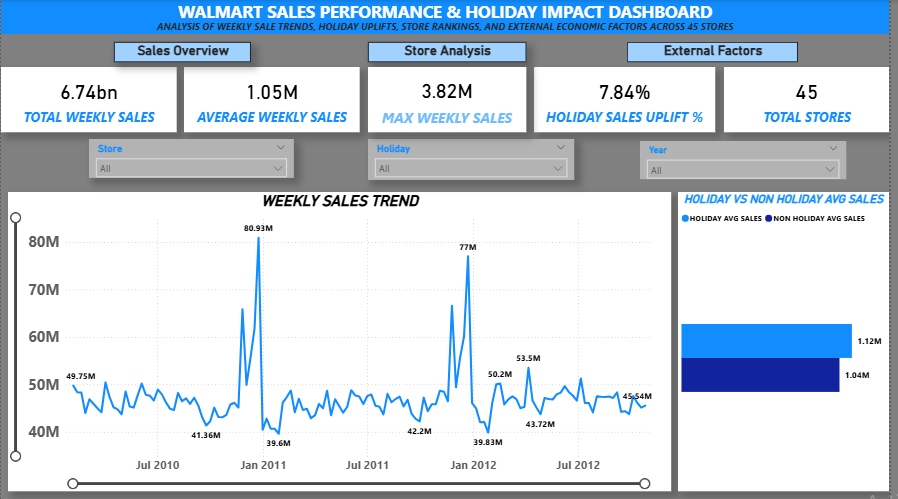

What the dashboard file says about the page in this screenshot:
{"tool":"powerbi","page":{"name":"Sales Overview","canvas":[1280,720],"ordinal":0},"visuals":[{"type":"card","fields":{"Values":["Sum(Walmart.Weekly_Sales)"]},"box":[0,96.5,253.4,93.6],"z":0},{"type":"card","fields":{"Values":["Walmart.Average weekly sales"]},"box":[263.5,96.5,253.4,93.6],"z":1000},{"type":"card","fields":{"Values":["Walmart.holiday sales uplift %"]},"box":[767.5,96.5,260.6,93.6],"z":2000},{"type":"card","fields":{"Values":["Count(Walmart.Store)"]},"box":[1041.1,96.5,239,93.6],"z":3000},{"type":"lineChart","title":"WEEKLY SALES TREND","fields":{"Y":["Sum(Walmart.Weekly_Sales)"],"Category":["Walmart.Date"]},"box":[10.1,276.5,954.7,430.6],"z":4000},{"type":"shape","title":"WALMART SALES PERFORMANCE & HOLIDAY IMPACT DASHBOARD","box":[0,0,1279.5,48.7],"z":5000},{"type":"textbox","box":[0,24.1,1279.3,36.2],"z":6000},{"type":"slicer","fields":{"Values":["Walmart.Store"]},"box":[126.7,200.2,295.2,56.2],"z":7000},{"type":"slicer","fields":{"Values":["Walmart.IsHoliday"]},"box":[528.5,200.2,296.6,59],"z":8000},{"type":"slicer","fields":{"Values":["Walmart.Date.Variation.Date Hierarchy.Year"]},"box":[920.2,203,296.6,54.7],"z":9000},{"type":"actionButton","title":"External Factors","box":[901.4,60.5,246.2,28.8],"z":10000},{"type":"actionButton","title":"Sales Overview","box":[162.7,60.5,197.3,28.8],"z":11000},{"type":"actionButton","title":"Store Analysis","box":[528.5,60.5,227.5,28.8],"z":12000},{"type":"card","fields":{"Values":["Correlation_Table.Maximum Weekly Sales"]},"box":[528.5,96.5,227.5,93.6],"z":13000},{"type":"clusteredColumnChart","title":"HOLIDAY VS NON HOLIDAY AVG SALES","fields":{"Y":["Walmart.Holiday average","Walmart.Non Holiday Average"]},"box":[974.9,276.5,303.8,430.6],"z":14000}]}

Visuals, with their boxes in screenshot pixels (x1, y1, x2, y2), scaled from the page's 1280x720 canvas onto the 898x499 screenshot:
card - Sum(Walmart.Weekly_Sales): [0,67,178,132]
card - Walmart.Average weekly sales: [185,67,363,132]
card - Walmart.holiday sales uplift %: [538,67,721,132]
card - Count(Walmart.Store): [730,67,897,132]
"WEEKLY SALES TREND" lineChart: [7,192,677,490]
"WALMART SALES PERFORMANCE & HOLIDAY IMPACT DASHBOARD" shape: [0,0,897,34]
textbox: [0,17,897,42]
slicer - Walmart.Store: [89,139,296,178]
slicer - Walmart.IsHoliday: [371,139,579,180]
slicer - Walmart.Date.Variation.Date Hierarchy.Year: [646,141,854,179]
"External Factors" actionButton: [632,42,805,62]
"Sales Overview" actionButton: [114,42,253,62]
"Store Analysis" actionButton: [371,42,530,62]
card - Correlation_Table.Maximum Weekly Sales: [371,67,530,132]
"HOLIDAY VS NON HOLIDAY AVG SALES" clusteredColumnChart: [684,192,897,490]
